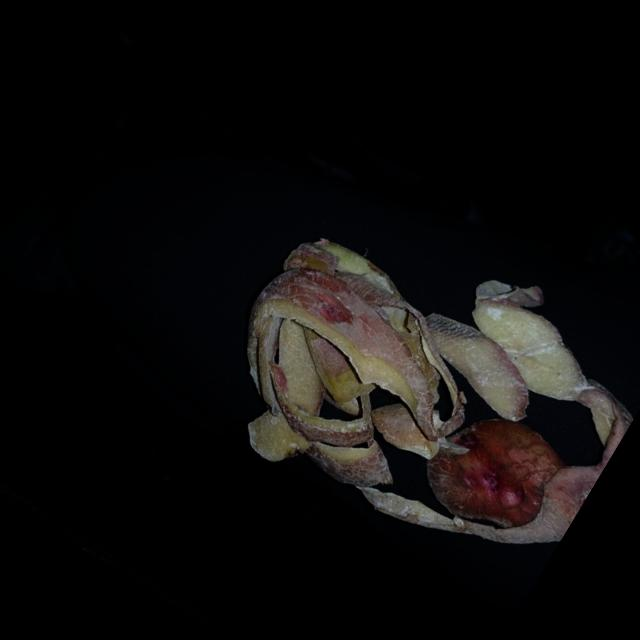organic: (187, 165, 640, 611)
